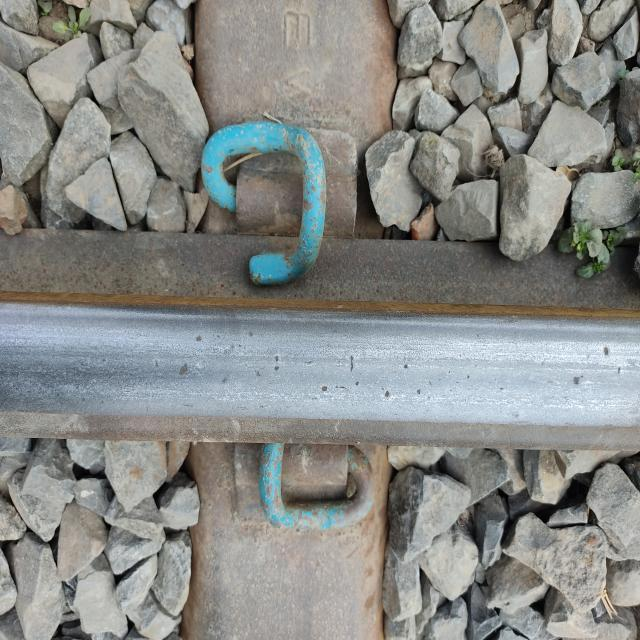Good Fasteners: (201, 121, 357, 284), (234, 443, 377, 529)
